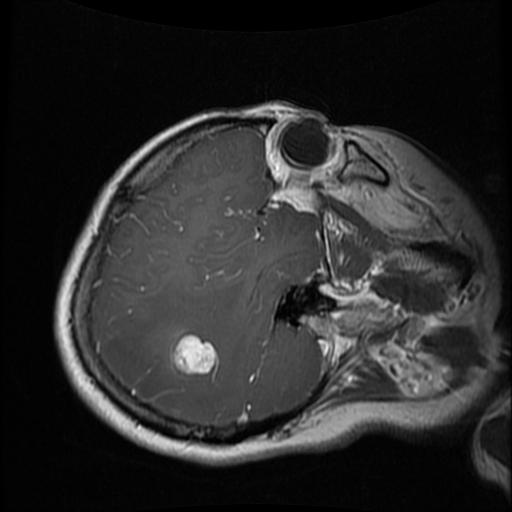glioma: (172, 332, 218, 376)
